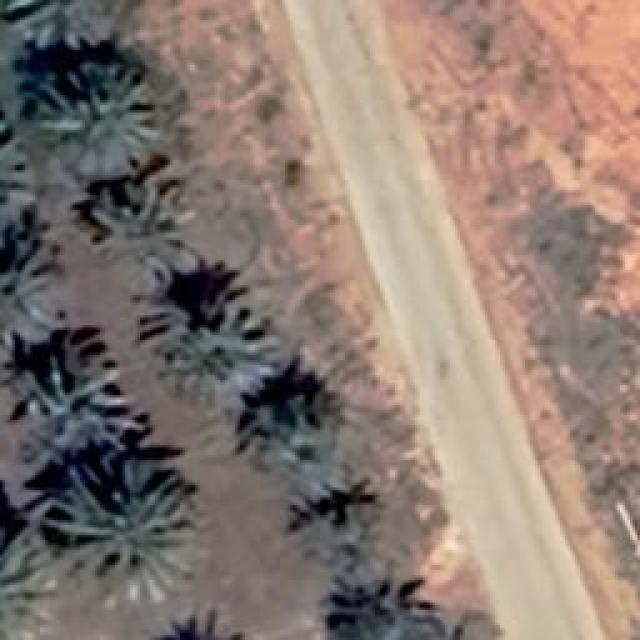PalmTree: (88, 60, 384, 610), (28, 120, 88, 580), (45, 455, 200, 600), (160, 282, 285, 396), (40, 60, 165, 170), (90, 182, 190, 288), (20, 362, 138, 450), (238, 388, 342, 464), (0, 222, 60, 352), (290, 497, 375, 565), (8, 0, 110, 48), (0, 125, 32, 225)
